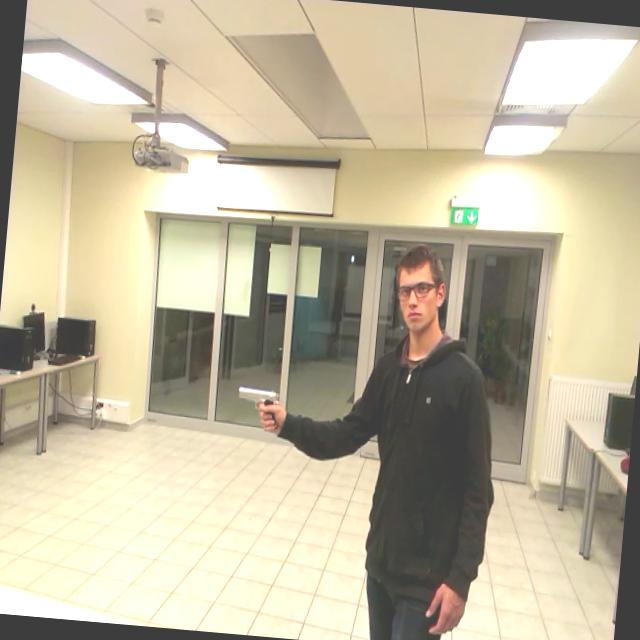handgun: (231, 376, 289, 440)
